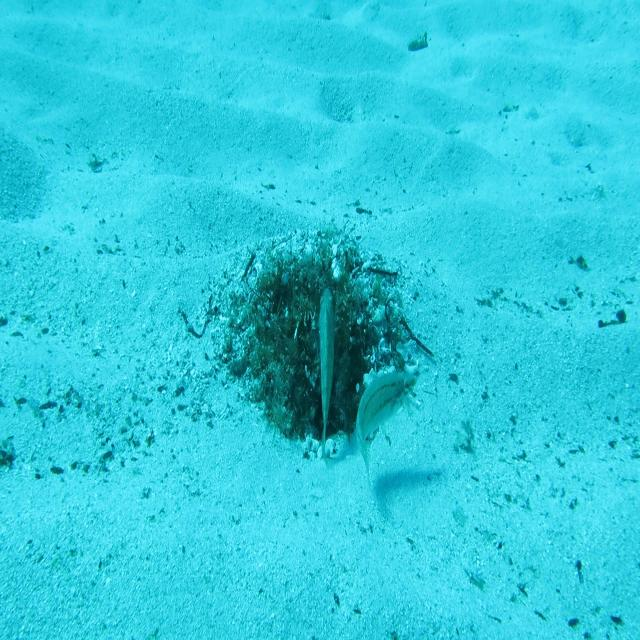FAN: (309, 286, 340, 472)
core_nest: (294, 267, 356, 323)
female: (352, 365, 420, 498)
nest: (200, 216, 424, 466)
vegetation: (406, 31, 432, 58)
